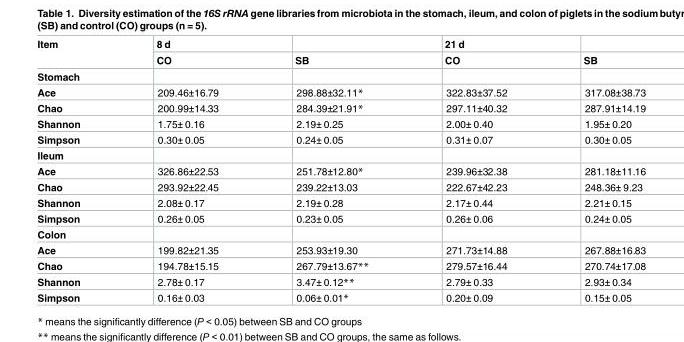table: (36, 37, 645, 303)
table column: (256, 37, 406, 303), (117, 37, 256, 303), (406, 37, 544, 303), (544, 37, 645, 303), (36, 37, 117, 303)
table column header: (36, 37, 645, 67)
table projected row header: (36, 67, 645, 83), (36, 225, 645, 241), (36, 147, 645, 162)
table row: (36, 51, 645, 67), (36, 67, 645, 83), (36, 83, 645, 99), (36, 99, 645, 115), (36, 115, 645, 131), (36, 131, 645, 147), (36, 162, 645, 178), (36, 178, 645, 194), (36, 194, 645, 210), (36, 225, 645, 241), (36, 241, 645, 257), (36, 257, 645, 273), (36, 273, 645, 289), (36, 147, 645, 162), (36, 210, 645, 225), (36, 37, 645, 51), (36, 289, 645, 303)
table spanning cell: (256, 37, 406, 67), (117, 37, 256, 67), (406, 37, 544, 67), (544, 37, 645, 67), (36, 37, 117, 67)
